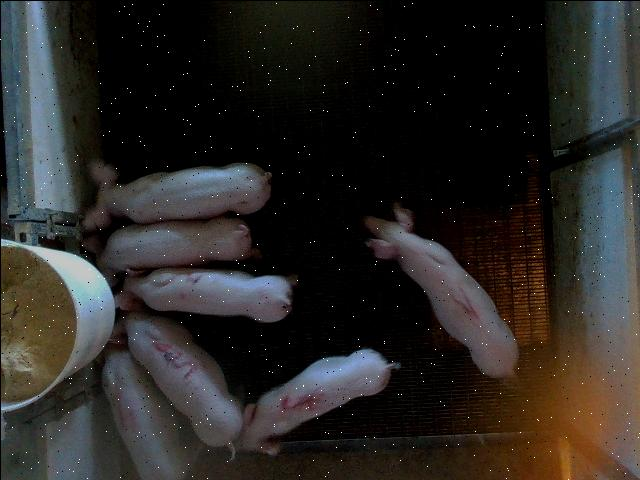pig-3: (110, 309, 241, 454)
pig-4: (101, 346, 201, 478)
pig-5: (235, 348, 399, 453)
